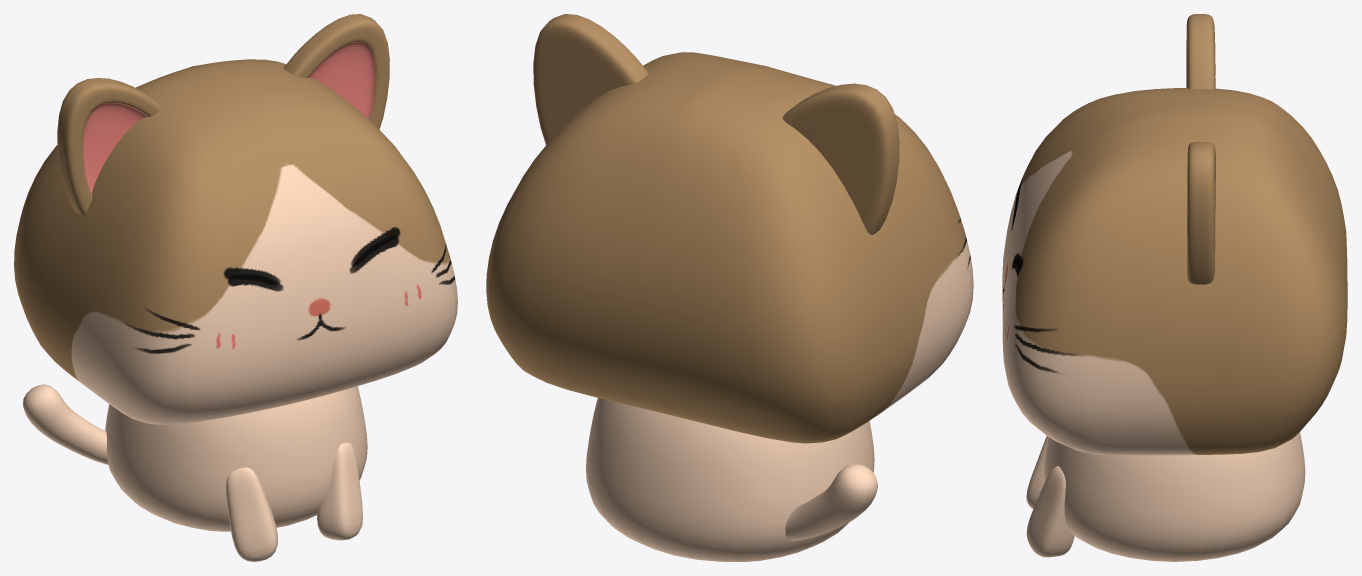
The model's file is oscene.glb.
The picture shows the model from 3 angles, left to right: view 1: azimuth 30°, elevation 25°; view 2: azimuth 150°, elevation 25°; view 3: azimuth 270°, elevation 25°; orthographic projection. The views are drawn at different scales.
Visible parts, largest first — view 1: head, body, ears, foot, tail; view 2: head, body, ears, tail; view 3: head, body, ears, foot.
Part boxes in pixels (<box>): head: <box>14,59,457,424</box>; body: <box>105,386,367,531</box>; ears: <box>57,14,389,215</box>; foot: <box>226,442,362,561</box>; tail: <box>22,384,108,464</box>; head: <box>486,52,973,443</box>; body: <box>586,398,874,561</box>; ears: <box>533,14,899,234</box>; tail: <box>785,463,877,540</box>; head: <box>1002,88,1347,455</box>; body: <box>1044,432,1305,561</box>; ears: <box>1186,14,1215,284</box>; foot: <box>1026,436,1074,557</box>.
Size of the model in its own units: 0.2495 by 0.3141 by 0.2176.
Materials: 3 (3 with a texture image).
